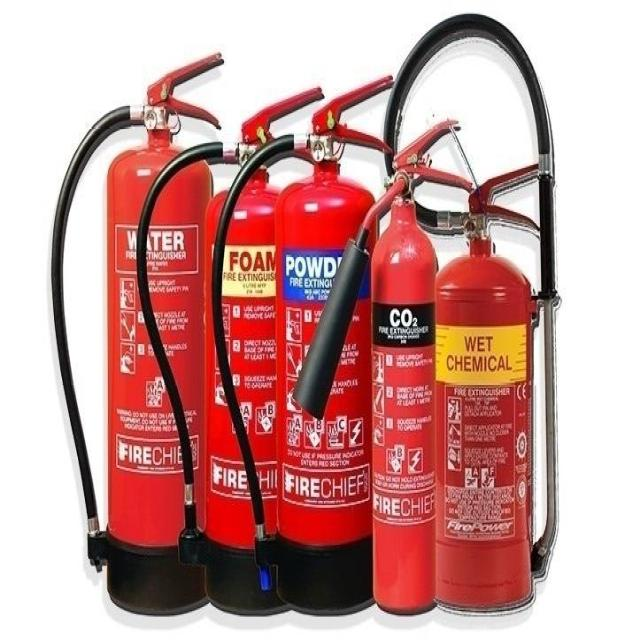fire_extinguisher: (376, 6, 564, 616), (207, 70, 397, 622), (132, 82, 326, 620), (48, 49, 226, 621), (288, 114, 474, 618)
